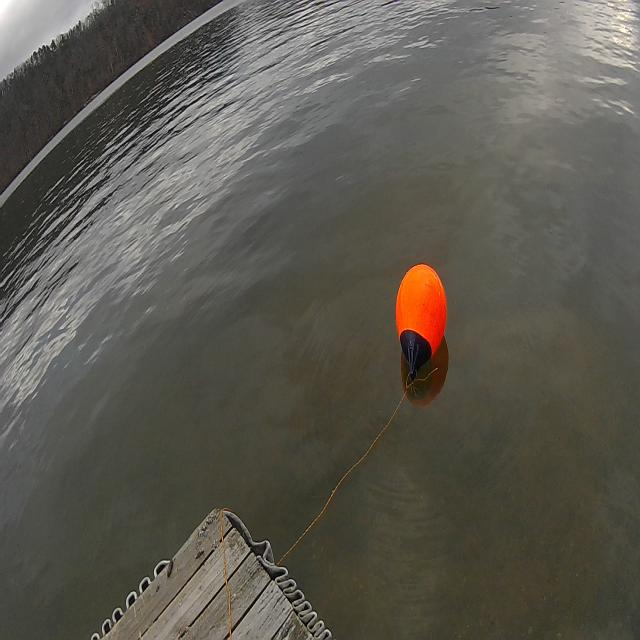Buoy: (391, 260, 450, 391)
